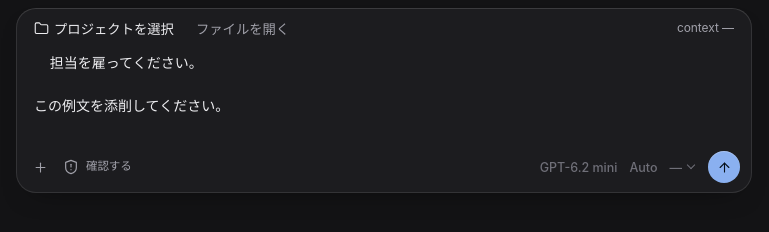
Scenario: shows the rejected start reason, preserves the draft, and clears the alert on retry
What coordinates should you click on to do the following:
click the button with test id "composer-send-button"
I would click on:
 (724, 167)
Its box is [708, 151, 740, 183].
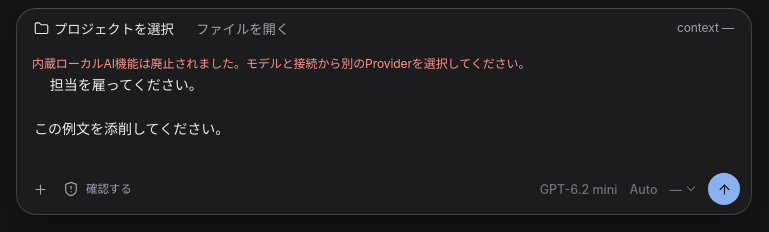
Expected: the message "内蔵ローカルAI機能は廃止されました。モデルと接続から別のProviderを選択してください。" is shown, [32, 56, 530, 71]
What coordinates should you click on to do the following:
click the button with test id "composer-send-button"
I would click on:
 (724, 189)
Its box is [708, 173, 740, 205].
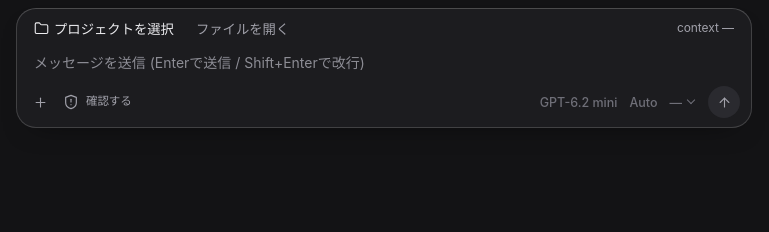
Expected: the message "内蔵ローカルAI機能は廃止されました。モデルと接続から別のProviderを選択してください。" is gone
